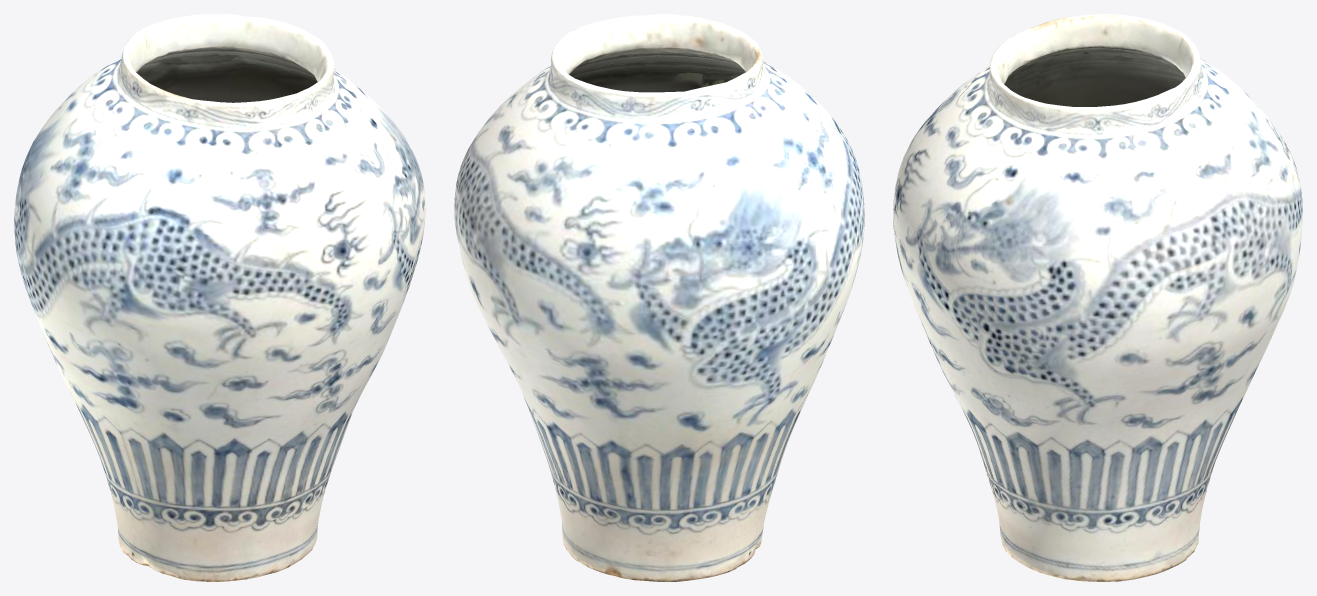
File: dragonjar.glb
3 views of the same model, side by side, from view 1: azimuth 30°, elevation 25°; view 2: azimuth 150°, elevation 25°; view 3: azimuth 270°, elevation 25° (orthographic).
Visible parts, largest first — view 1: Object_2; view 2: Object_2; view 3: Object_2.
Part boxes in pixels (<box>): Object_2: <box>14,14,425,581</box>; Object_2: <box>454,14,864,581</box>; Object_2: <box>893,14,1302,581</box>.
Bounding box in the file's own units: 0.304 × 0.3984 × 0.3023.
Materials: 1 (1 with a texture image).
